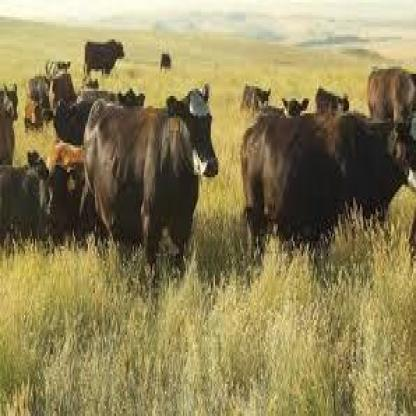cow: (82, 85, 220, 284), (240, 110, 416, 264), (366, 68, 416, 129), (84, 40, 127, 82), (0, 82, 20, 164), (314, 85, 350, 112), (241, 86, 271, 113), (160, 53, 172, 77)
